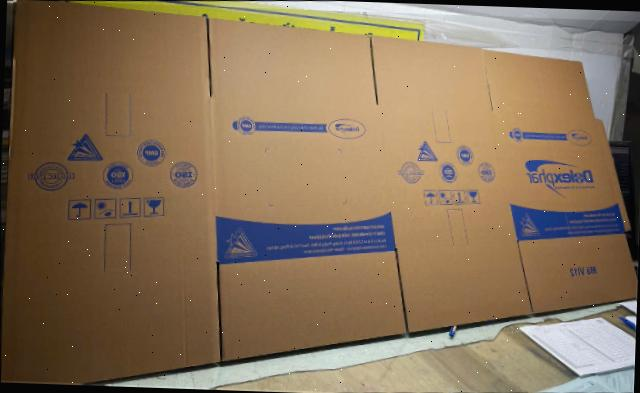box: (0, 0, 637, 384)
